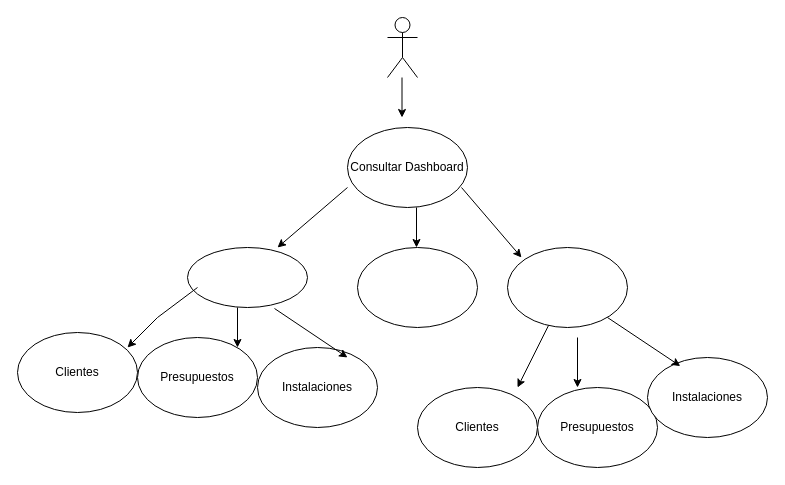
Image size: 785x485. Some labels were removed from this diagram. Here are the shapes that lost their labels. From the top down, the centre of each, then its label:
At point (402, 47): "USUARIO".
At point (247, 277): "Ver indicadores".
At point (417, 287): "Ver gráfico".
At point (567, 287): "Consultar actividad reciente".
